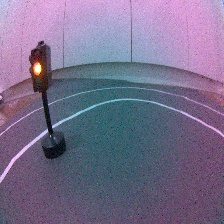amber: (27, 39, 68, 160)
